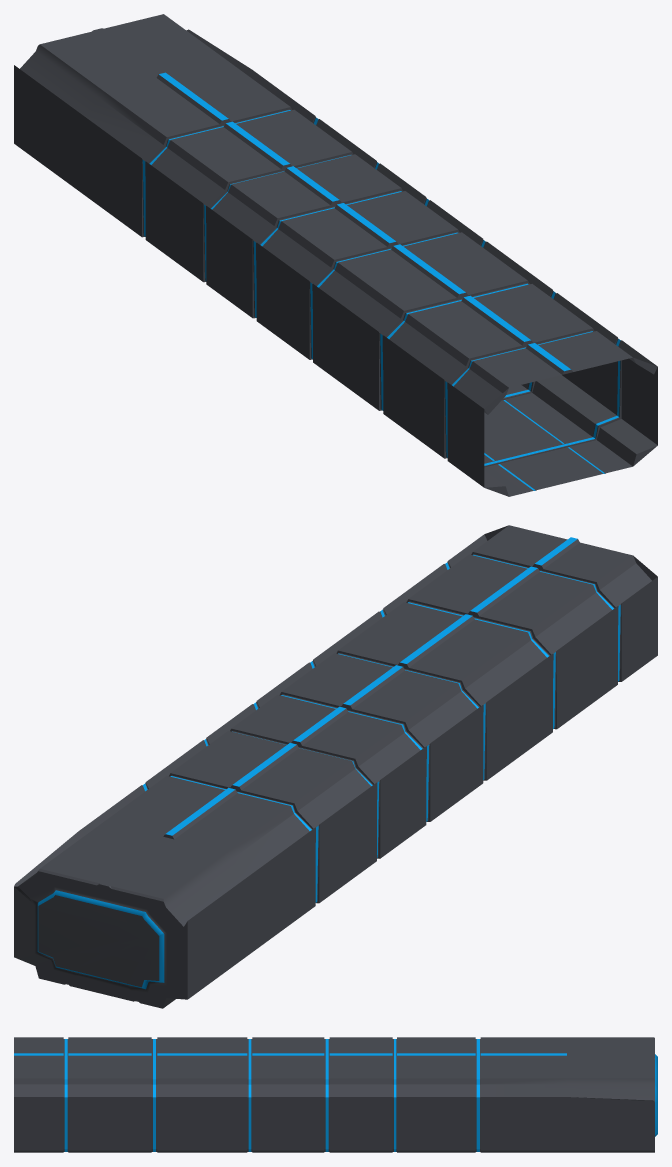
The model's file is Corridor.fbx.
3 views of the same model, one above another, from view 1: azimuth 30°, elevation 25°; view 2: azimuth 150°, elevation 25°; view 3: azimuth 270°, elevation 25° (orthographic). The views are drawn at different scales.
Parts seen in each view (by area): view 1: polySurface1; view 2: polySurface1; view 3: polySurface1.
Part boxes in pixels (x1,y1,x2,y2): polySurface1: (14,14,657,496); polySurface1: (14,525,657,1008); polySurface1: (14,1037,657,1152).
Size of the model in its own units: 1.67 by 1.03 by 7.85.
1 material, 1 textured.
